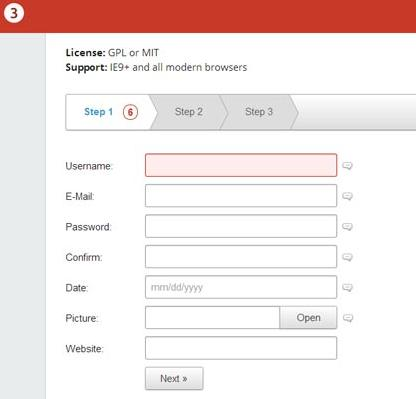button: (143, 366, 204, 390), (281, 305, 337, 330)
field: (142, 150, 338, 179), (141, 334, 339, 362), (142, 272, 339, 300), (142, 212, 336, 239), (141, 244, 339, 269), (142, 183, 338, 208), (142, 305, 280, 329)
field_with_label: (66, 148, 340, 180), (65, 271, 340, 302), (65, 333, 340, 364), (66, 210, 338, 240), (64, 243, 340, 272), (67, 181, 339, 209), (64, 302, 281, 331)
